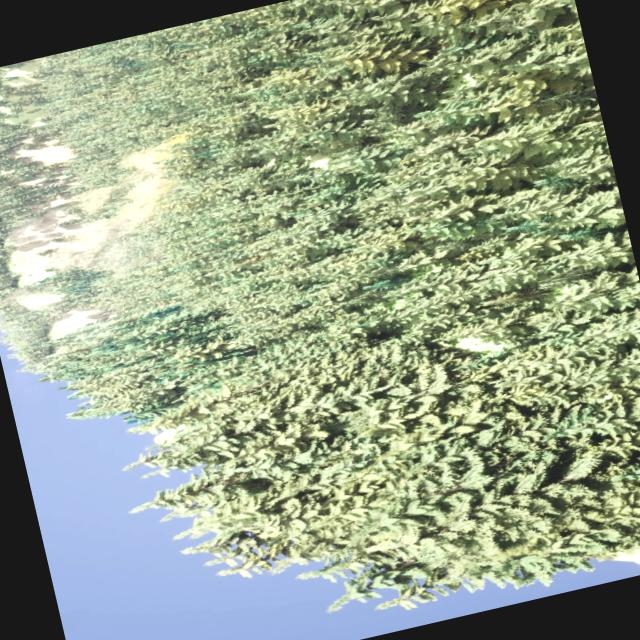smoke: (84, 137, 200, 240)
